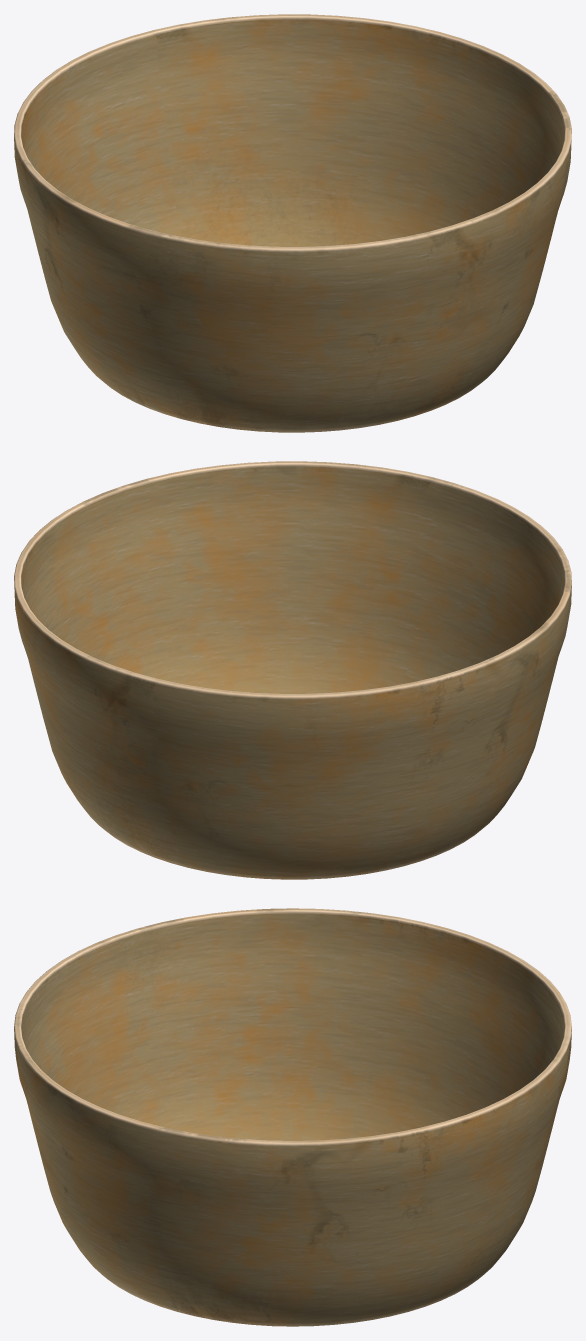
Rendered from SM_SoupBowl_B.fbx.
The picture shows the model from 3 angles, top to bottom: view 1: azimuth 30°, elevation 25°; view 2: azimuth 150°, elevation 25°; view 3: azimuth 270°, elevation 25°; orthographic projection.
Visible parts, largest first — view 1: SM_SoupBowl_B; view 2: SM_SoupBowl_B; view 3: SM_SoupBowl_B.
Part boxes in pixels (bbox=[...]): SM_SoupBowl_B: bbox=[14, 14, 571, 432]; SM_SoupBowl_B: bbox=[14, 461, 571, 879]; SM_SoupBowl_B: bbox=[14, 908, 571, 1326].
Size of the model in its own units: 15.5 by 6.87 by 15.5.
1 material, 1 textured.
